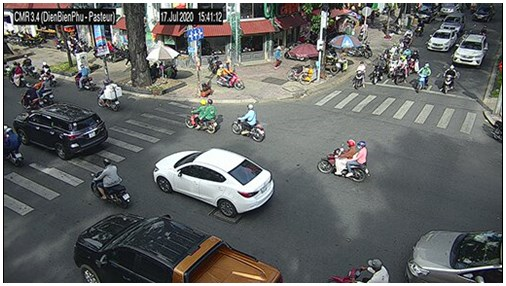xe_ban_tai: (74, 212, 284, 283)
xe_hoi: (152, 148, 274, 216), (405, 229, 502, 283), (14, 103, 108, 158), (453, 32, 488, 66), (427, 28, 457, 52), (441, 12, 466, 33)
xe_may: (317, 138, 371, 181), (90, 157, 131, 209), (327, 258, 390, 282), (231, 103, 266, 143), (185, 99, 219, 134), (4, 124, 24, 168), (216, 63, 245, 91), (97, 80, 121, 112), (75, 63, 95, 91), (34, 76, 54, 104), (371, 53, 387, 86), (414, 62, 431, 92), (20, 82, 38, 109), (9, 60, 26, 88), (442, 63, 457, 94), (395, 55, 409, 86), (352, 61, 366, 90), (23, 54, 37, 77), (409, 49, 419, 74), (415, 17, 424, 38)
